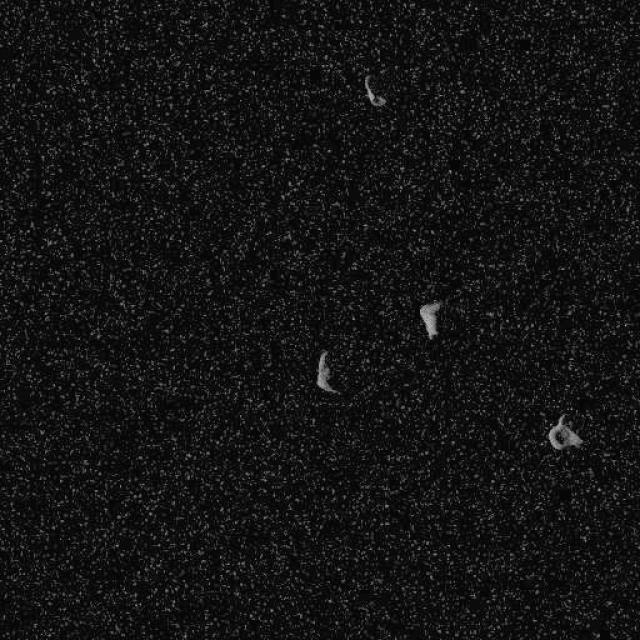D2: (546, 414, 584, 451), (314, 349, 341, 395), (418, 299, 442, 339), (362, 74, 387, 108)
